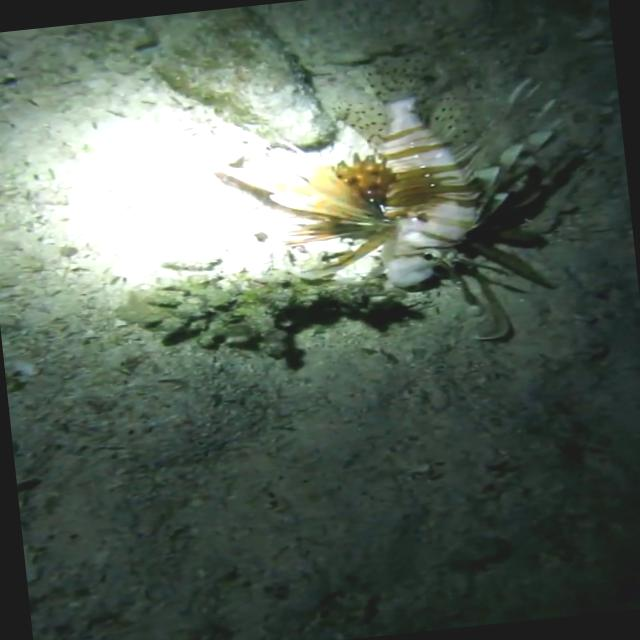Aslan Baligi: (244, 68, 606, 366)
